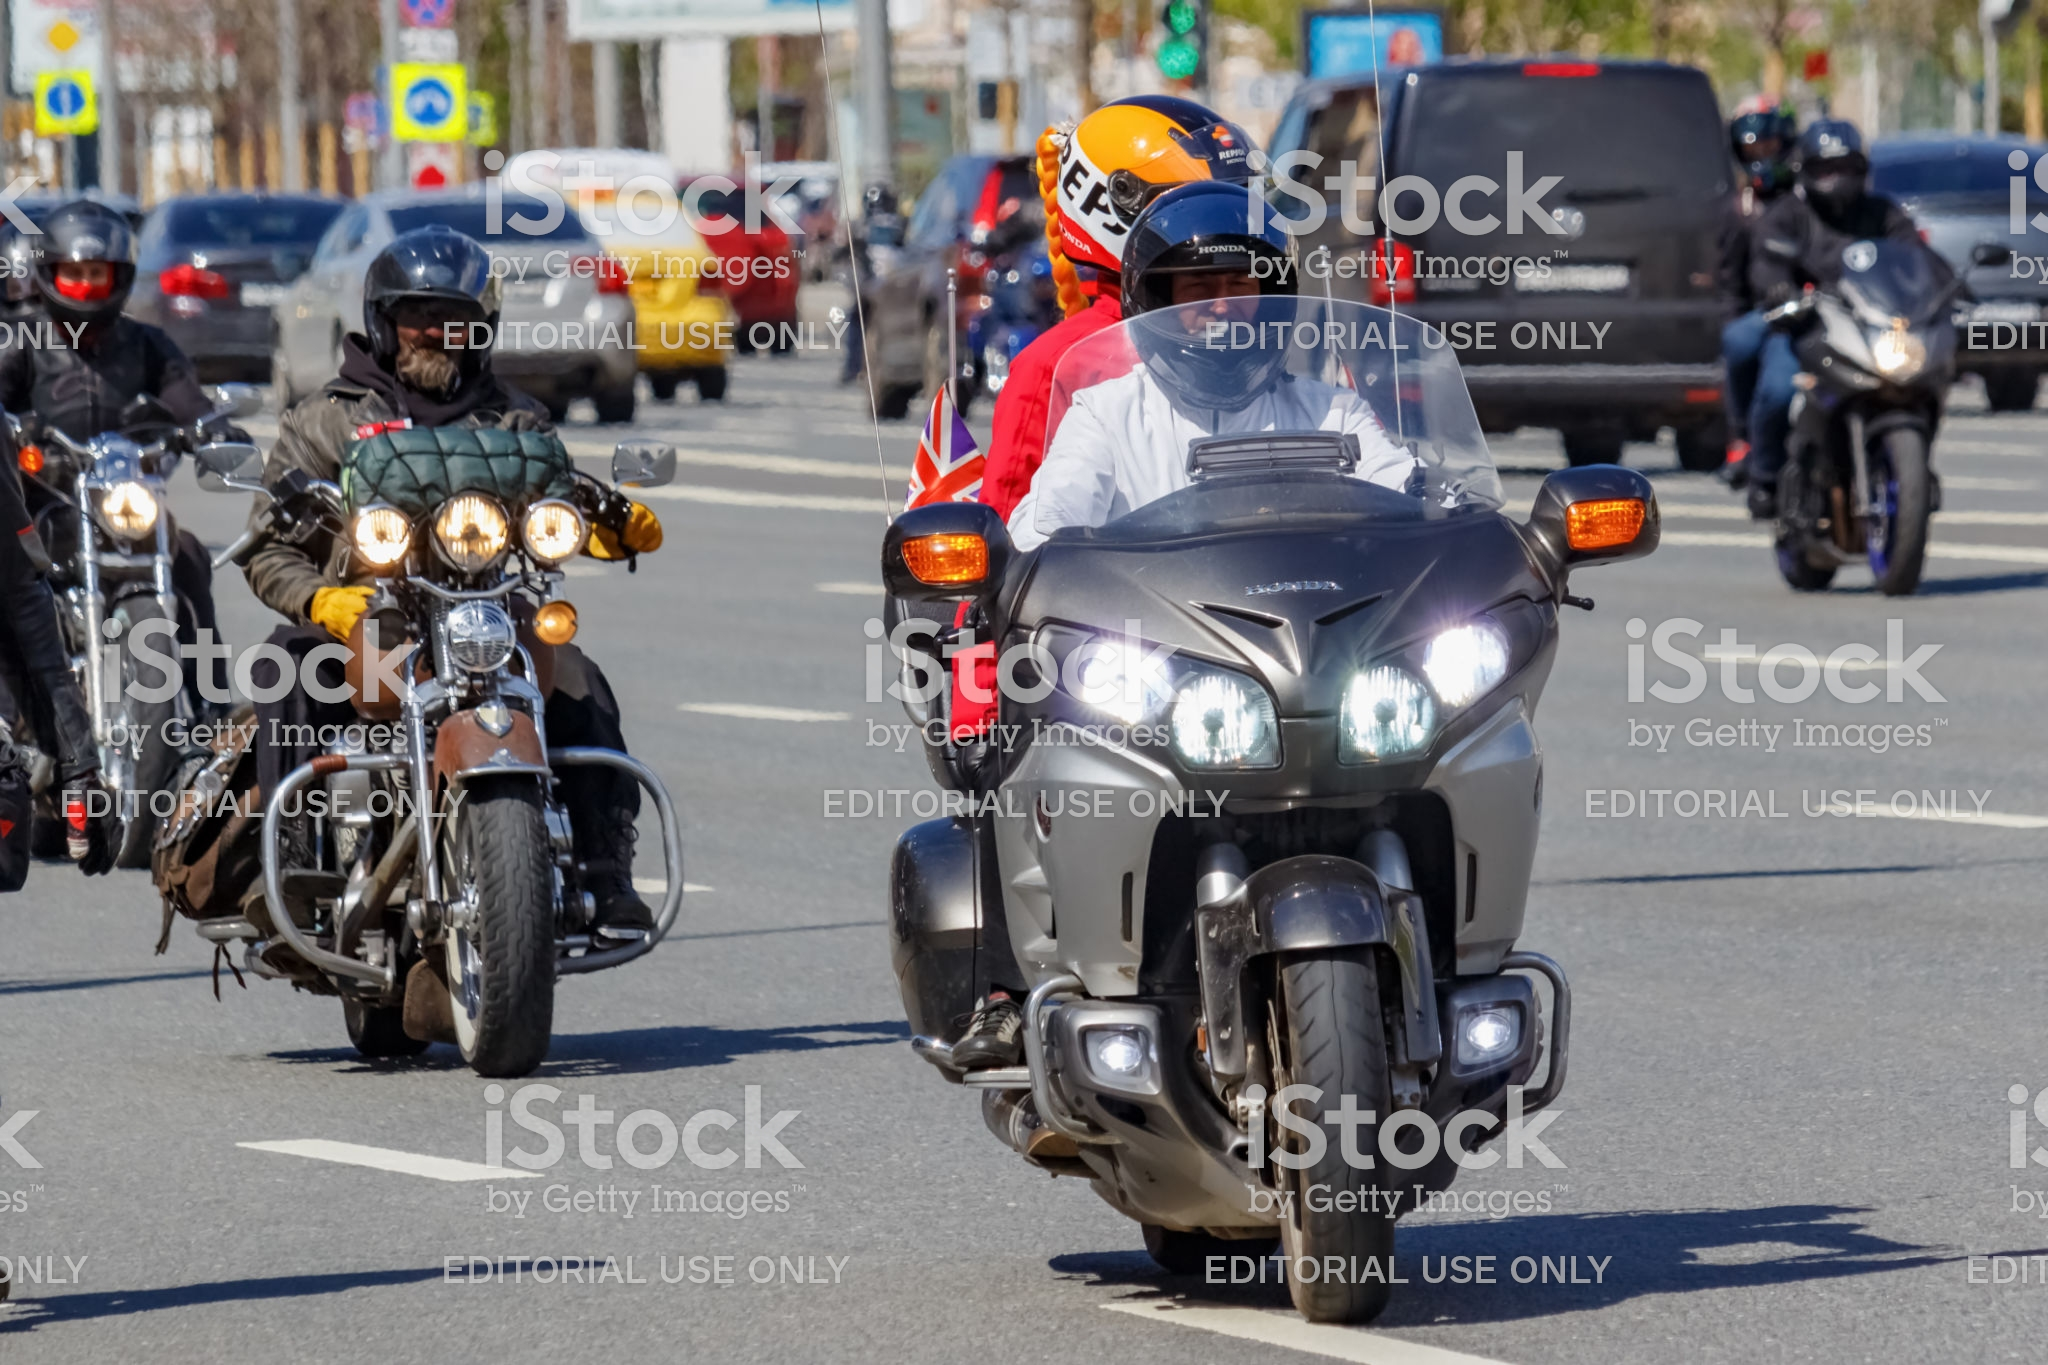helmet: (1031, 104, 1265, 264), (1118, 190, 1302, 376), (343, 229, 506, 356)
